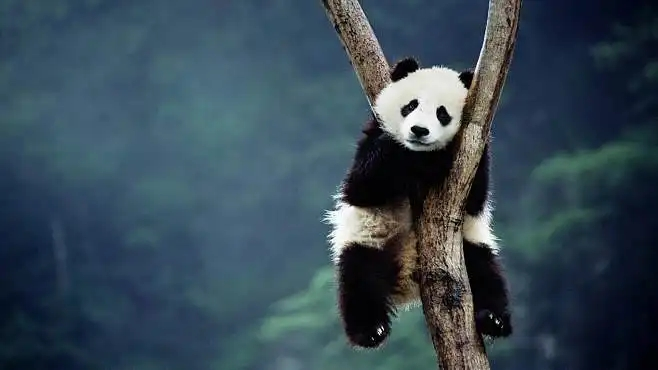panda: (317, 56, 542, 346)
